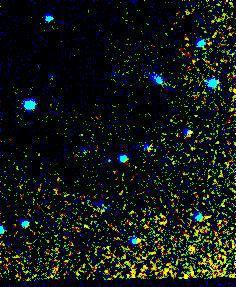star: (177, 237, 207, 267)
